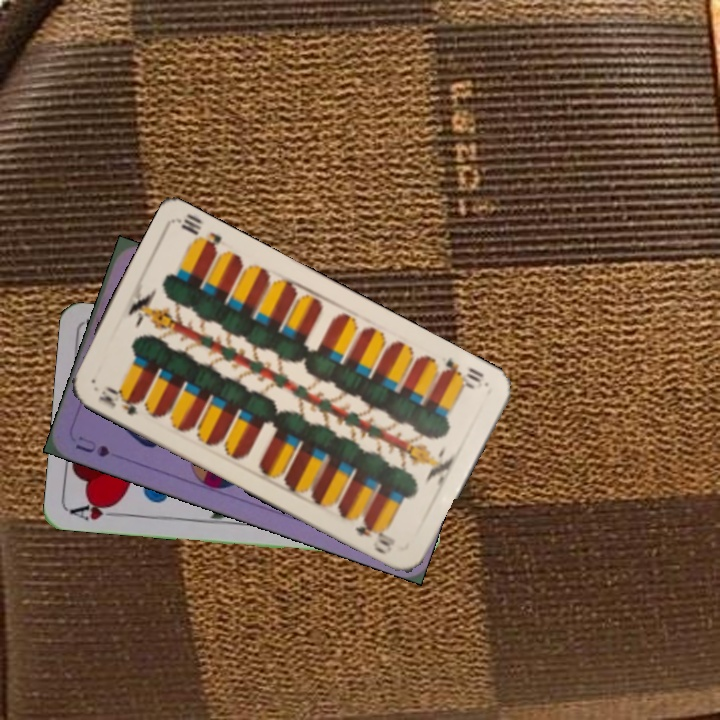E10: (94, 382, 149, 418), (437, 353, 487, 392)
HA: (68, 497, 127, 523)
SU: (71, 432, 112, 460)
